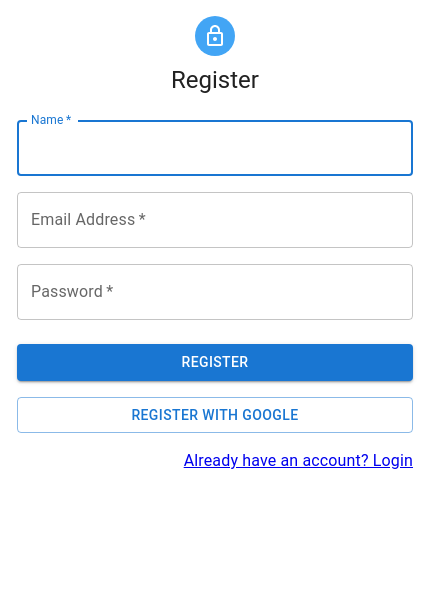
Register Component › shows validation error when fields are empty
Click the button "Register".
click(215, 362)  # box 17,344 -> 413,380
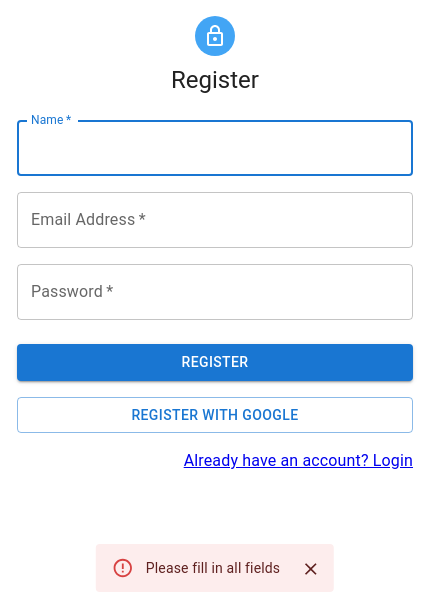
Expected: the text "Please fill in all fields" is shown, 146,560 -> 280,576
